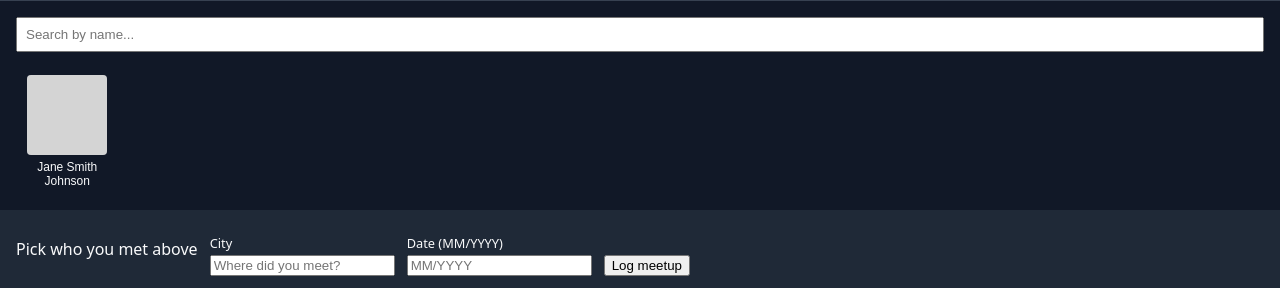
Test: ClassMeetupBoard › shows an error when the city can't be geocoded
Click the button with aria-label "Select Jane Smith Johnson" at (67, 131), box [16,68,118,194]
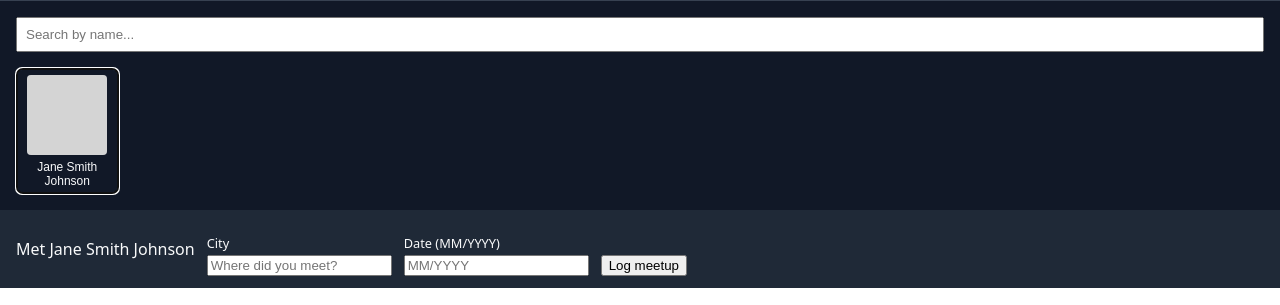
Expected: the text "Met Jane Smith Johnson" is shown, [16,238,195,260]
Type "Nowhereville" into the field labelled "City" at (299, 266), box [207,255,392,276]
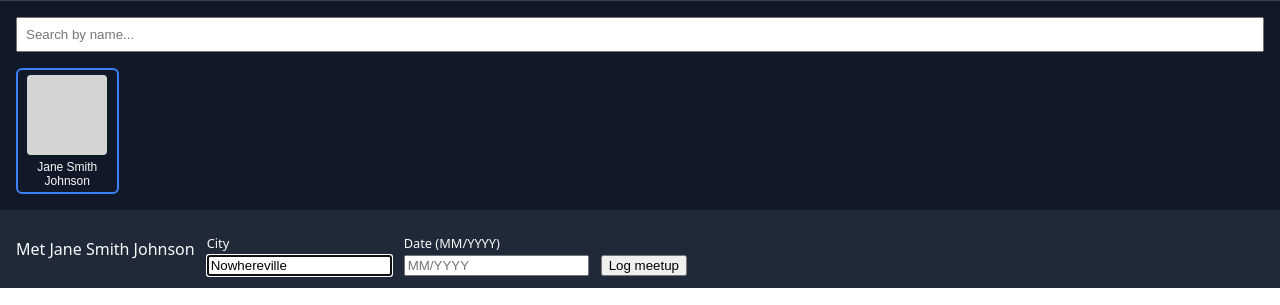
Click the button "Log meetup" at (644, 266), box [601,255,687,276]
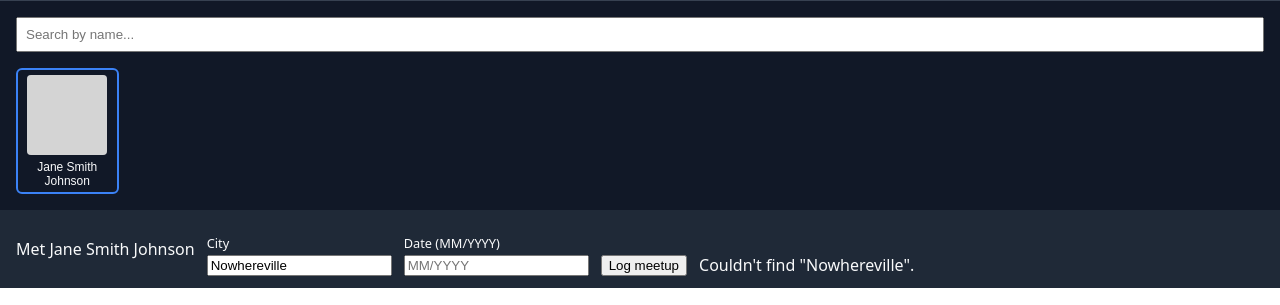
Expected: the message shows "Couldn't find \"Nowhereville\"", [699,254,914,276]
